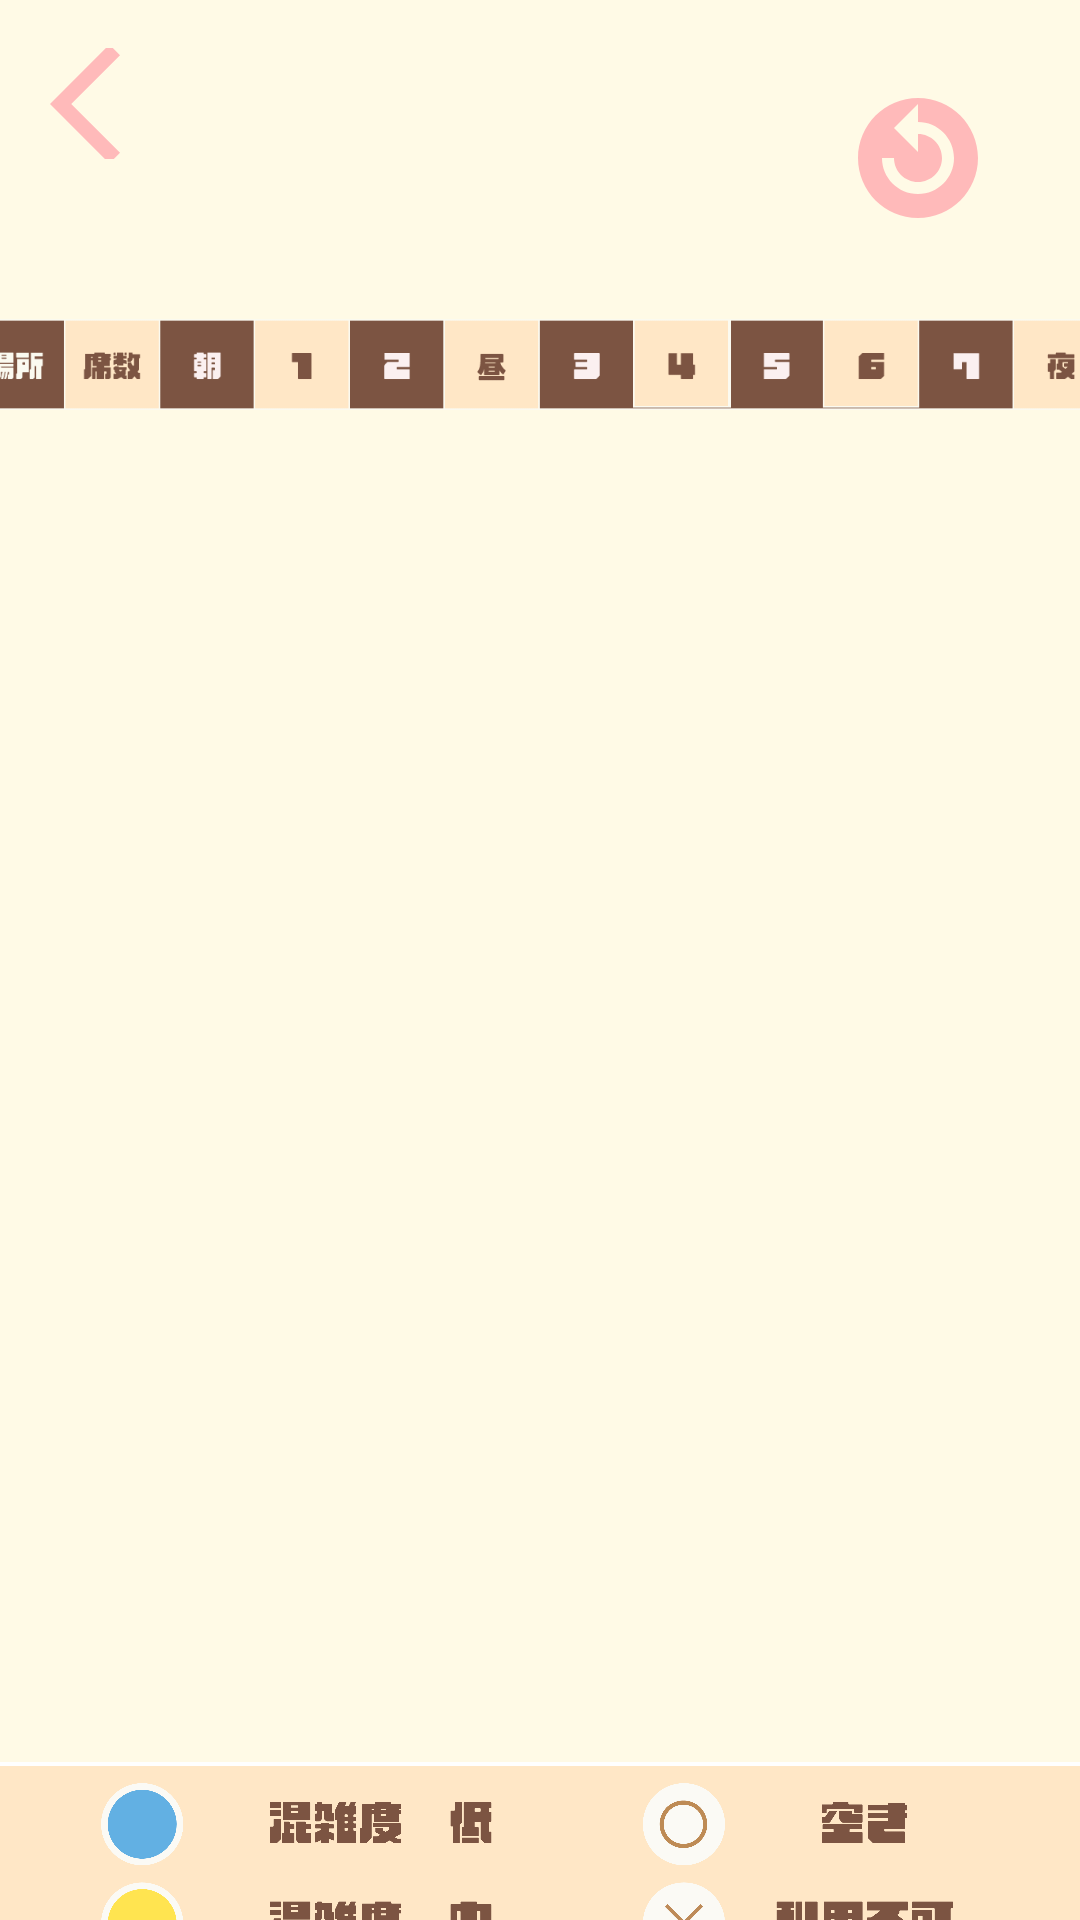

Icon bounding boxes for this 1080*1920 phone screenshot, format (x1, y1, x2, y2):
back: (50, 48, 120, 159)
reroad: (858, 98, 978, 218)
